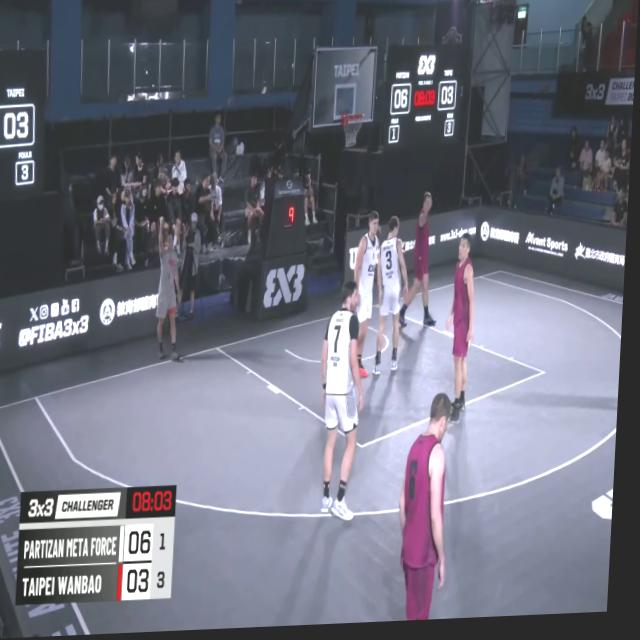hoop: (341, 108, 369, 155)
player: (397, 393, 460, 625), (317, 276, 374, 531), (445, 232, 483, 432), (374, 217, 415, 382), (402, 190, 448, 336), (351, 212, 386, 386)
